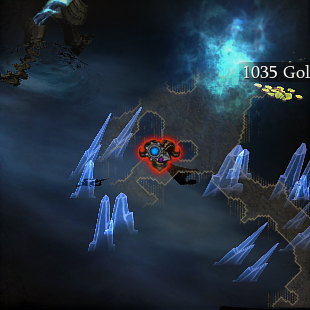Guardian: (137, 137, 181, 170)
